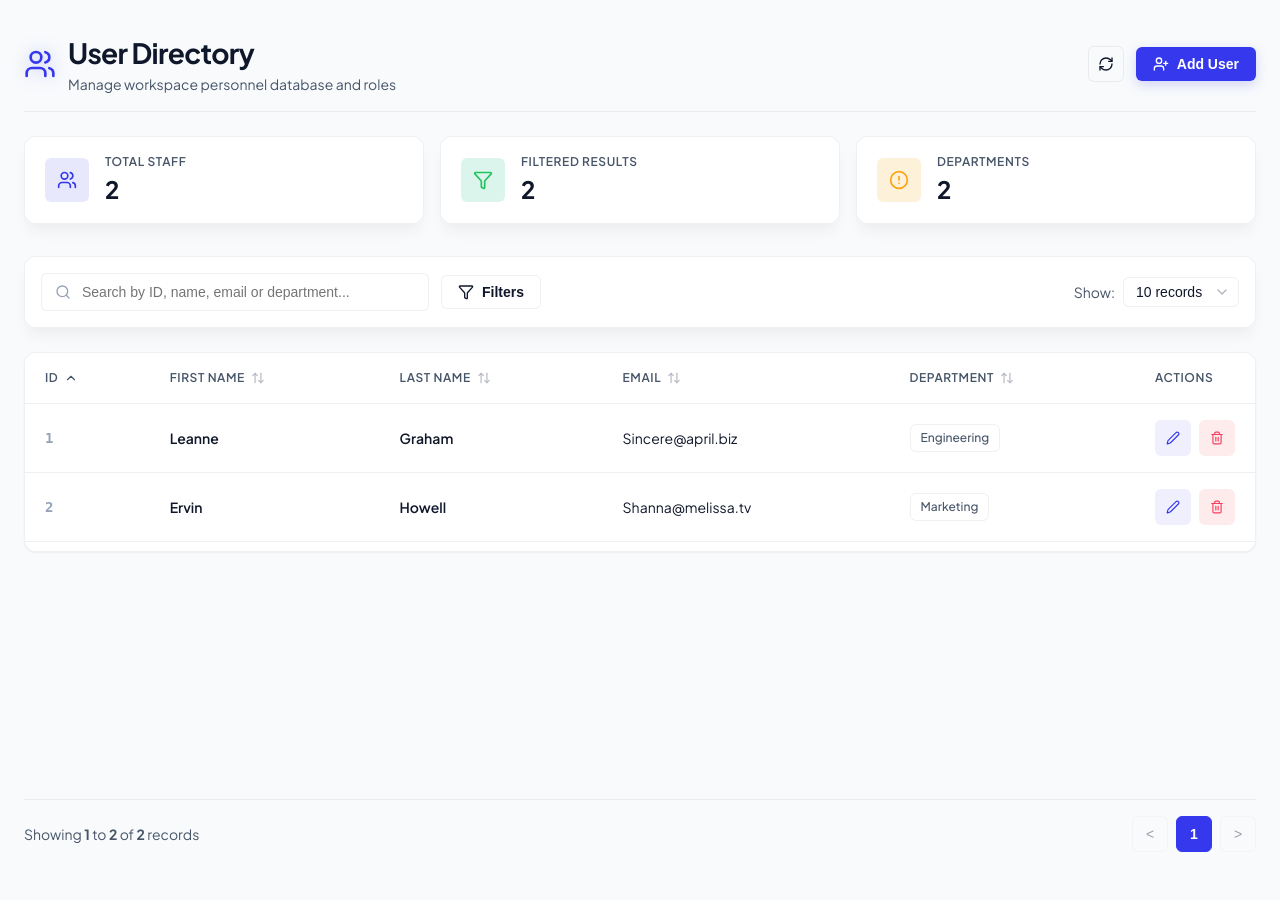
User Management App Integration › should restore deleted API users when reload is clicked
Expected: the element with test id "user-table" is shown, x1=24 y1=352 x2=1256 y2=552
Expected: the text "Leanne" is shown, x1=150 y1=404 x2=380 y2=472
// Delete Ervin Howell (ID: 2)
Click the button with test id "delete-btn-2" at [1217, 507], box x1=1199 y1=489 x2=1235 y2=525
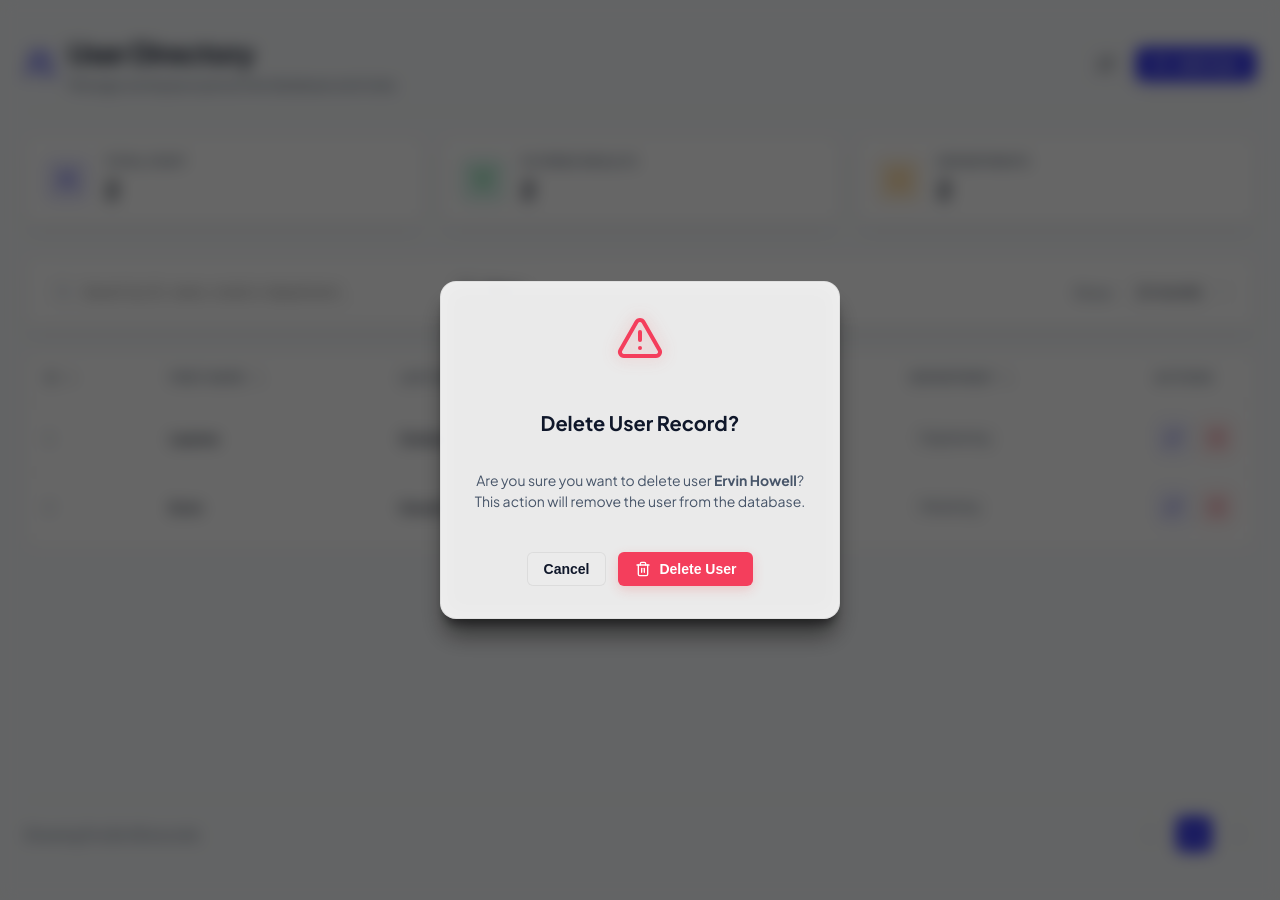
Click the button with test id "confirm-delete-btn" at [686, 569], box x1=618 y1=552 x2=753 y2=586
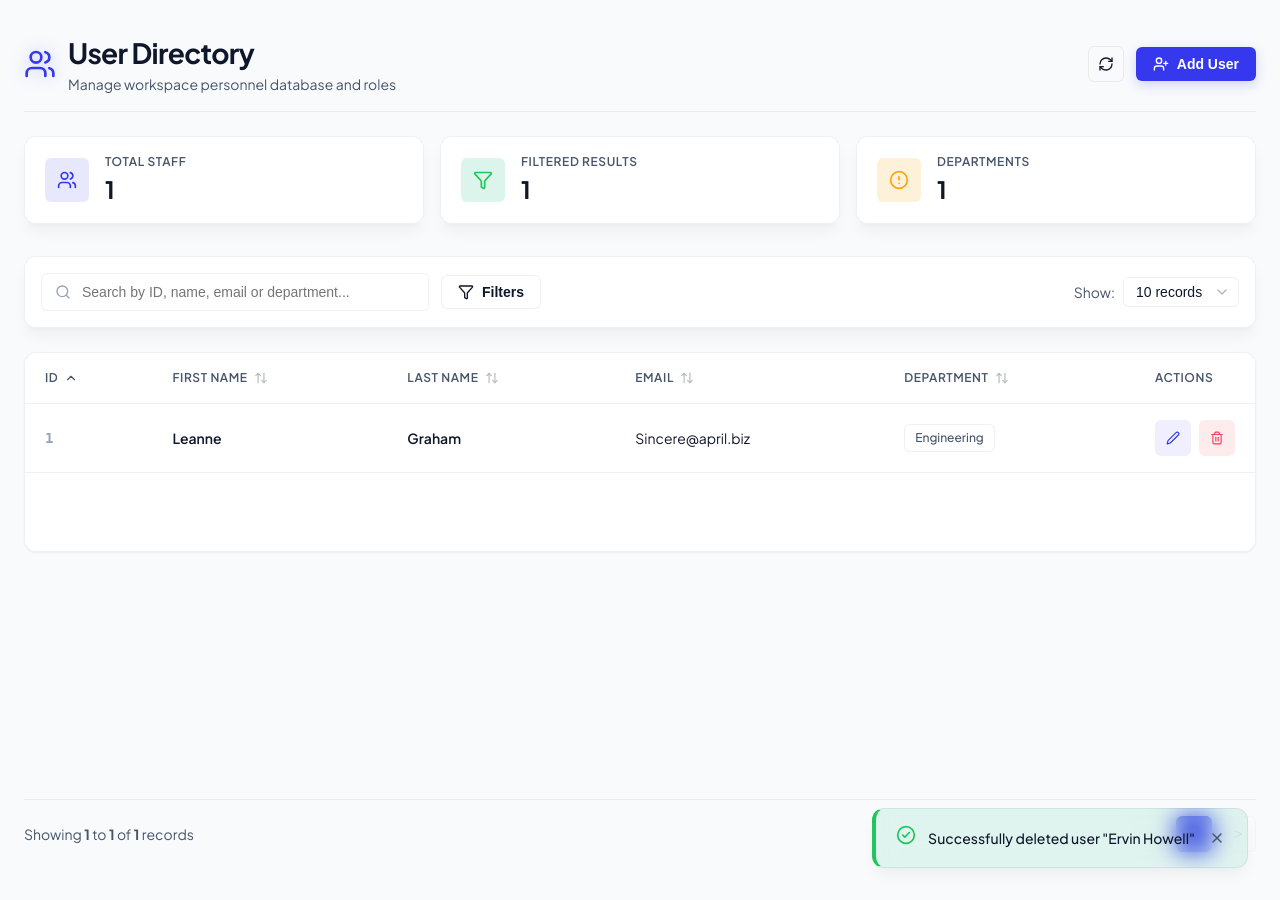
// Click the reload button
Click the button named "Reload users" at [1106, 64], box x1=1088 y1=46 x2=1124 y2=82
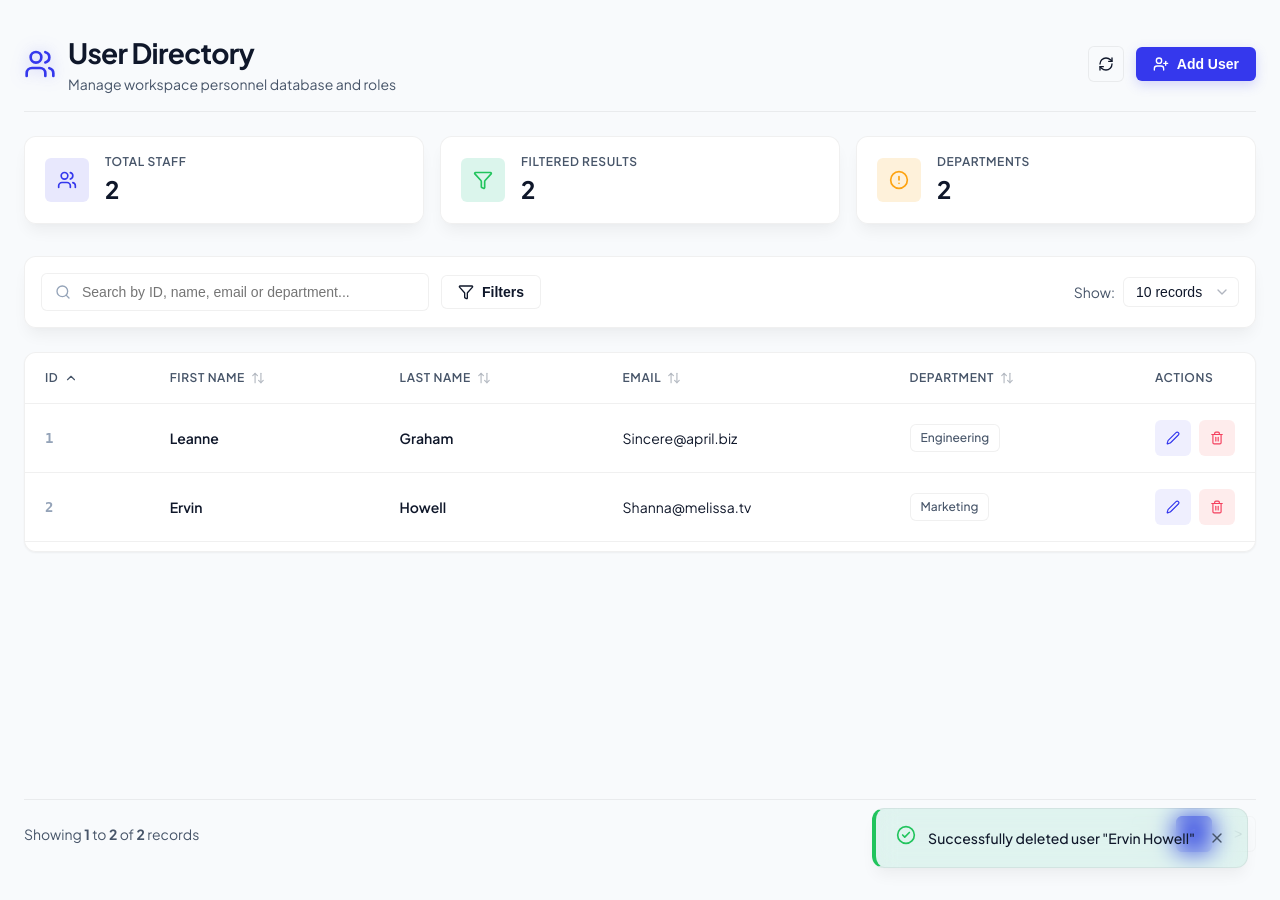
Result: the text "Ervin" is shown at x1=150 y1=472 x2=380 y2=542
